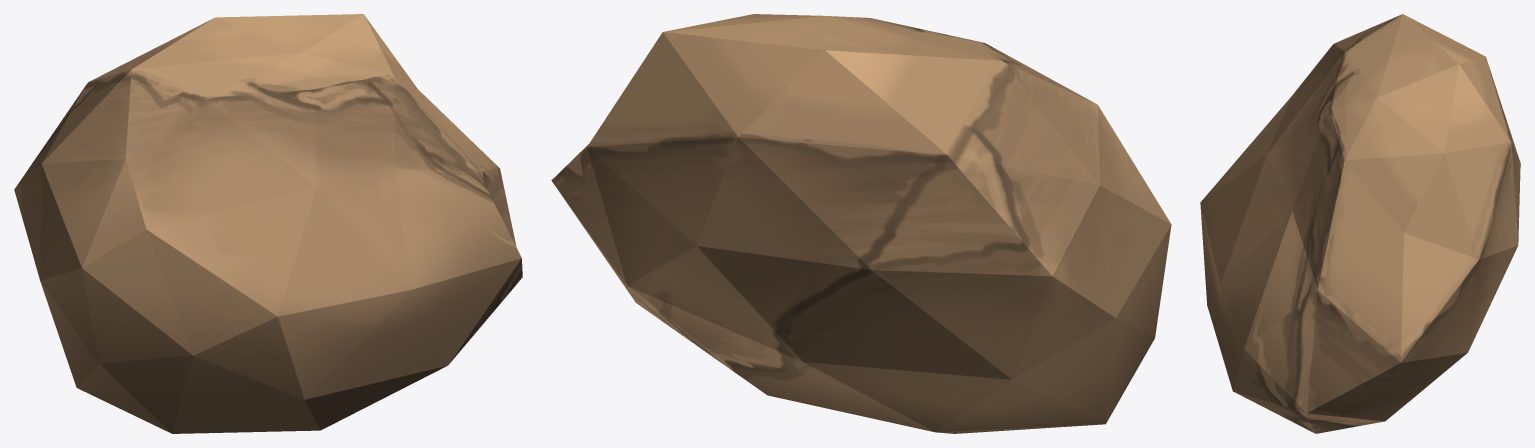
File: kamn.gltf
The picture shows the model from 3 angles, left to right: view 1: azimuth 30°, elevation 25°; view 2: azimuth 150°, elevation 25°; view 3: azimuth 270°, elevation 25°; orthographic projection. The views are drawn at different scales.
Parts seen in each view (by area): view 1: Icosphere; view 2: Icosphere; view 3: Icosphere.
Boxes of the visible parts, x1,y1,x2,y2 form: Icosphere: [14, 14, 522, 433]; Icosphere: [551, 14, 1171, 433]; Icosphere: [1200, 14, 1520, 433].
Size of the model in its own units: 5.48 by 3.94 by 3.47.
1 material, 1 textured.
